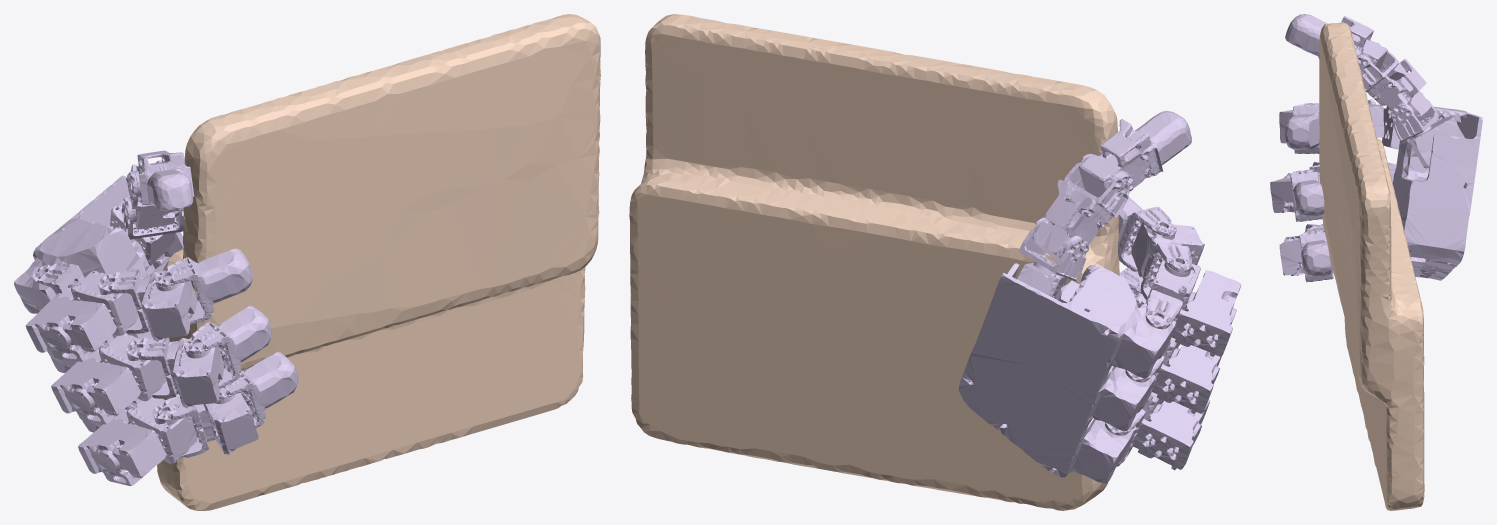
The model's file is 631edca31003c7-closed.glb.
The picture shows the model from 3 angles, left to right: view 1: azimuth 30°, elevation 25°; view 2: azimuth 150°, elevation 25°; view 3: azimuth 270°, elevation 25°; orthographic projection. The views are drawn at different scales.
Visible parts, largest first — view 1: world, LEAP_hand; view 2: world, LEAP_hand; view 3: world, LEAP_hand.
Part boxes in pixels (x1,y1,x2,y2): world: [157, 14, 600, 510]; LEAP_hand: [14, 150, 298, 485]; world: [629, 14, 1119, 510]; LEAP_hand: [958, 110, 1241, 483]; world: [1319, 22, 1424, 510]; LEAP_hand: [1270, 14, 1482, 282].
Bounding box in the file's own units: 0.3976 × 0.2663 × 0.1539.
